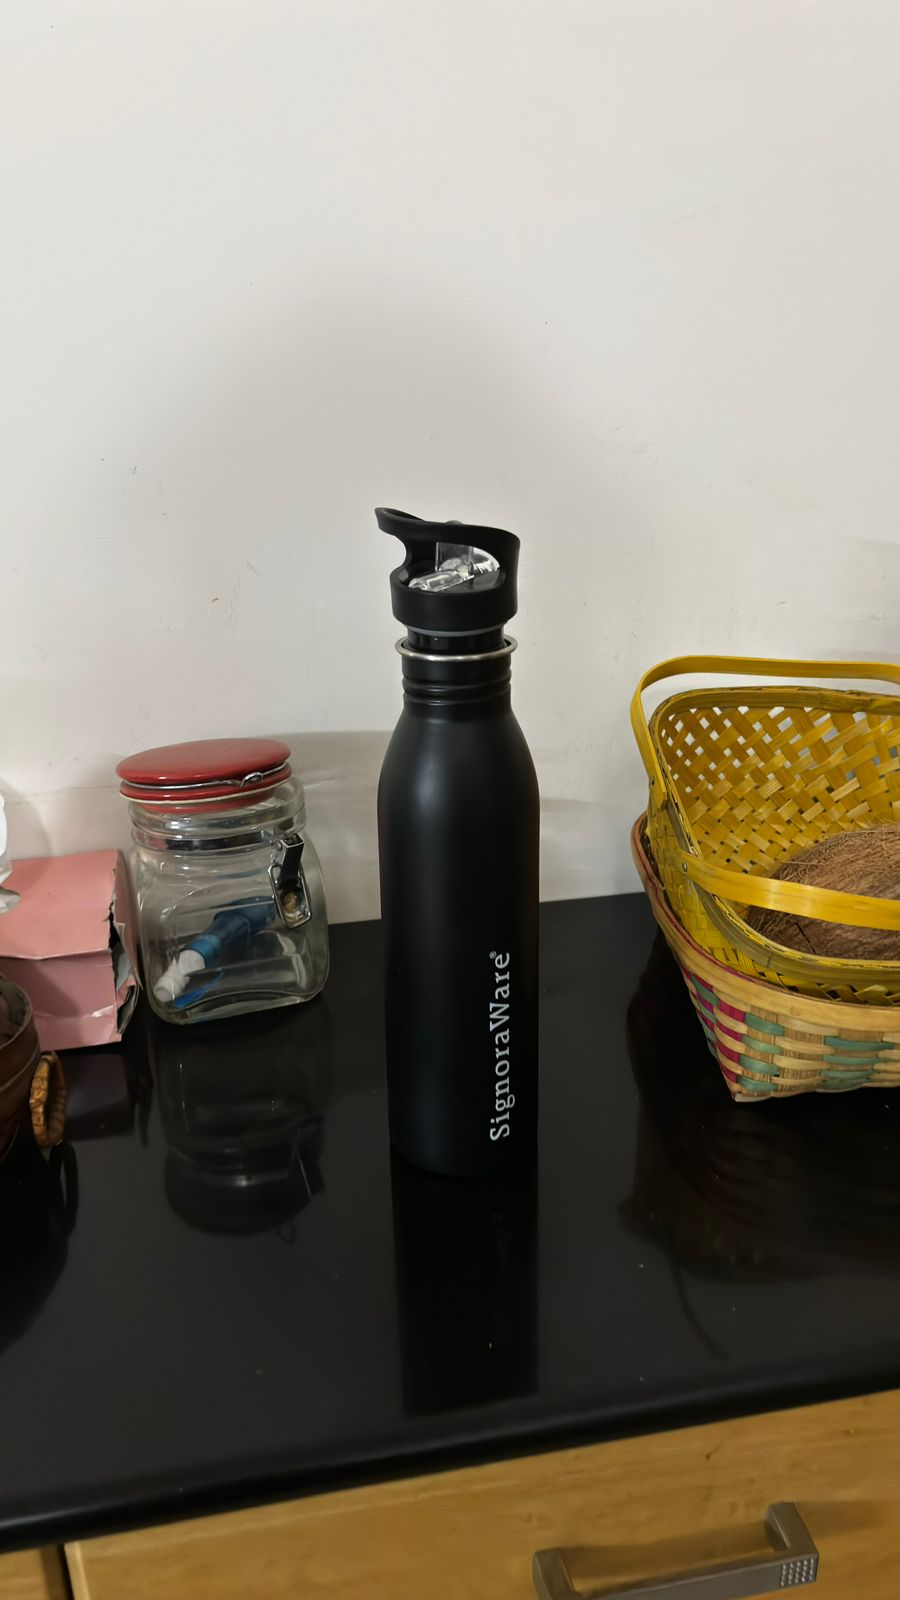bottle: (364, 502, 564, 1184)
